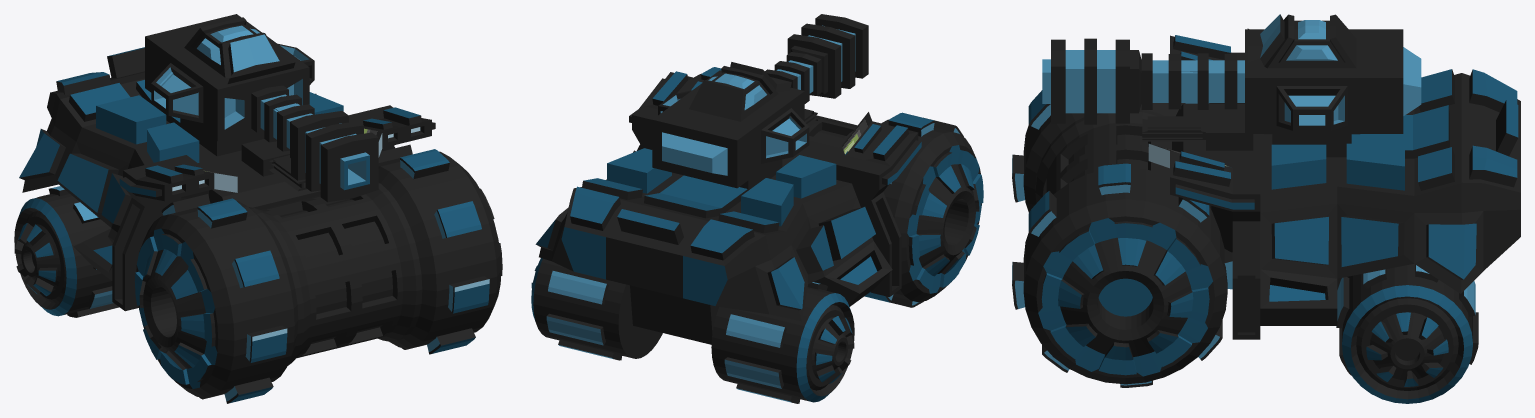
Rendered from Hulk.fbx.
The picture shows the model from 3 angles, left to right: view 1: azimuth 30°, elevation 25°; view 2: azimuth 150°, elevation 25°; view 3: azimuth 270°, elevation 25°; orthographic projection. The views are drawn at different scales.
Visible parts, largest first — view 1: FrontWheel, Body, Gun, BackWheel; view 2: Body, Gun, BackWheel, FrontWheel; view 3: Body, FrontWheel, Gun, BackWheel.
Boxes of the visible parts, x1,y1,x2,y2 form: FrontWheel: [134, 144, 502, 403]; Body: [19, 47, 435, 311]; Gun: [145, 14, 378, 202]; BackWheel: [14, 186, 119, 317]; Body: [535, 71, 921, 344]; Gun: [652, 14, 868, 190]; BackWheel: [531, 258, 854, 403]; FrontWheel: [694, 67, 983, 307]; Body: [1142, 35, 1520, 339]; FrontWheel: [1012, 90, 1232, 387]; Gun: [1042, 14, 1421, 157]; BackWheel: [1336, 264, 1478, 403].
Bounding box in the file's own units: 271 × 229 × 340.
4 materials, 4 textured.
